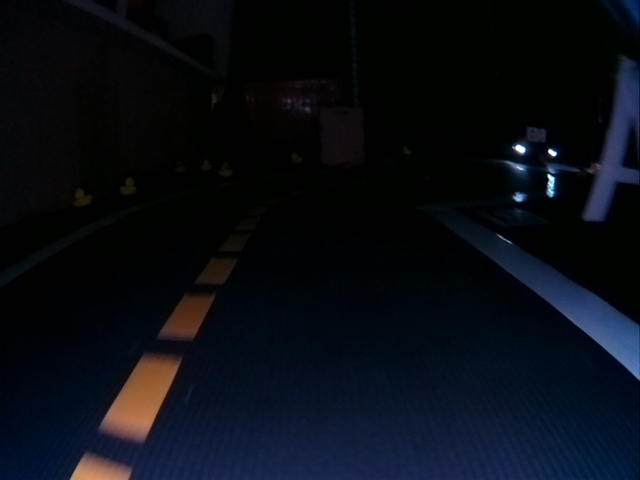Duckie: (72, 188, 93, 207), (120, 178, 137, 196), (217, 163, 232, 176), (199, 158, 212, 171), (174, 161, 185, 173)
Duckiebot: (511, 135, 558, 162)
QR code: (476, 206, 548, 227)
